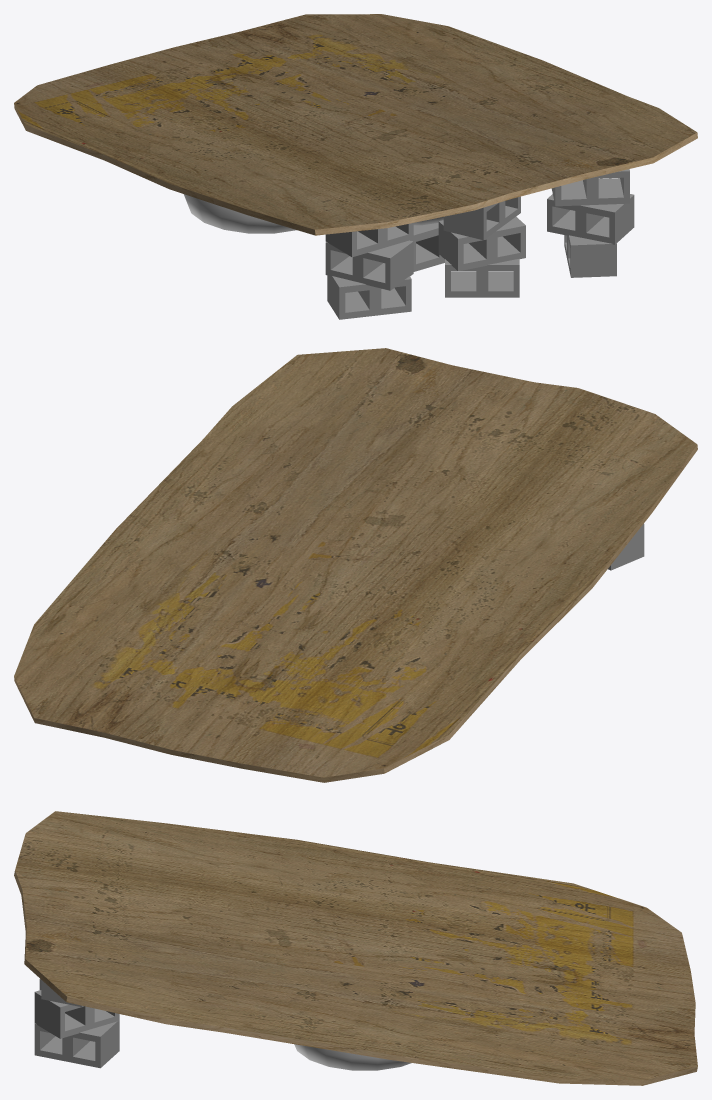
The model's file is Ramp2.FBX.
3 views of the same model, one above another, from view 1: azimuth 30°, elevation 25°; view 2: azimuth 150°, elevation 25°; view 3: azimuth 270°, elevation 25° (orthographic). The views are drawn at different scales.
Visible parts, largest first — view 1: Ramp2; view 2: Ramp2; view 3: Ramp2.
Part boxes in pixels (<box>): Ramp2: <box>14,14,697,319</box>; Ramp2: <box>14,348,697,782</box>; Ramp2: <box>14,811,697,1085</box>.
Size of the model in its own units: 214 by 58.68 by 309.
